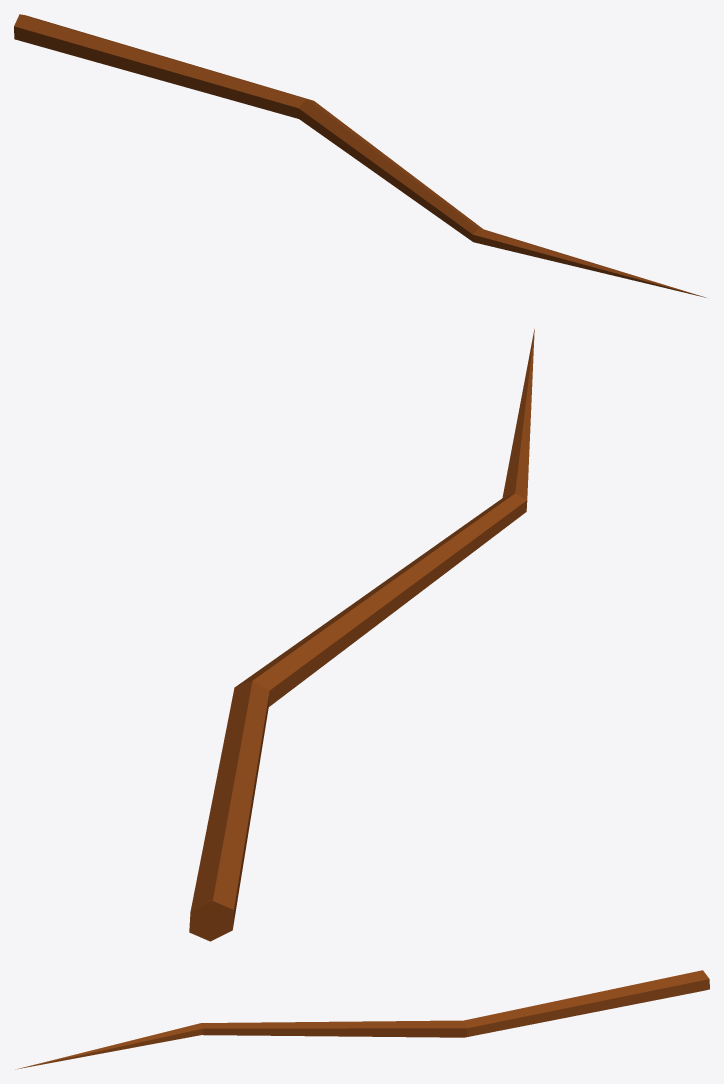
Rendered from Vegetation_Tree_Roots_Vines_Snaking_02.FBX.
3 views of the same model, one above another, from view 1: azimuth 30°, elevation 25°; view 2: azimuth 150°, elevation 25°; view 3: azimuth 270°, elevation 25° (orthographic). The views are drawn at different scales.
Parts seen in each view (by area): view 1: Vegetation_Tree_Roots_Vines_Snaking_02; view 2: Vegetation_Tree_Roots_Vines_Snaking_02; view 3: Vegetation_Tree_Roots_Vines_Snaking_02.
Part boxes in pixels (x1,y1,x2,y2): Vegetation_Tree_Roots_Vines_Snaking_02: (14, 14, 706, 297); Vegetation_Tree_Roots_Vines_Snaking_02: (189, 329, 534, 941); Vegetation_Tree_Roots_Vines_Snaking_02: (15, 970, 709, 1069).
Bounding box in the file's own units: 1744 × 177 × 5508.
